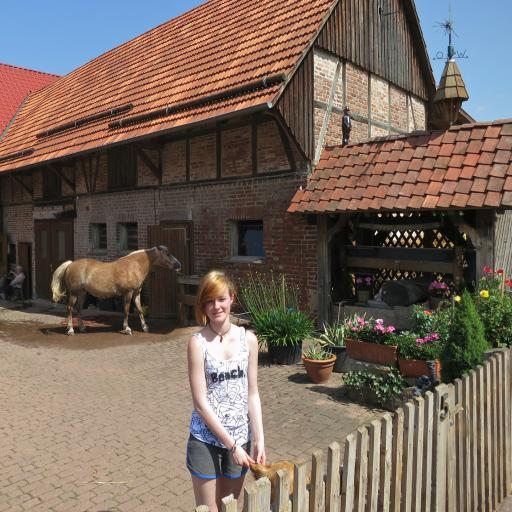horse: (47, 245, 180, 339)
